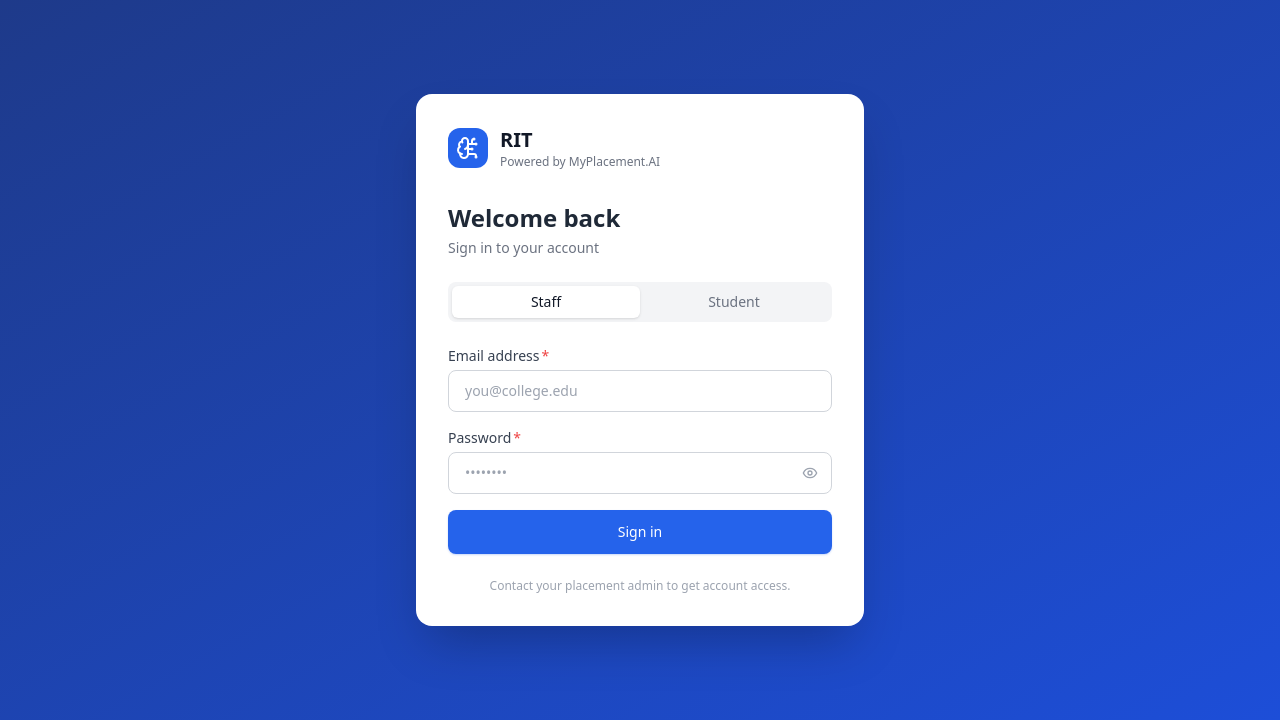
Test case: validation › asks for the roll number in student mode
Step 1. Click the button "student" → (734, 302), box left=640, top=286, right=828, bottom=318
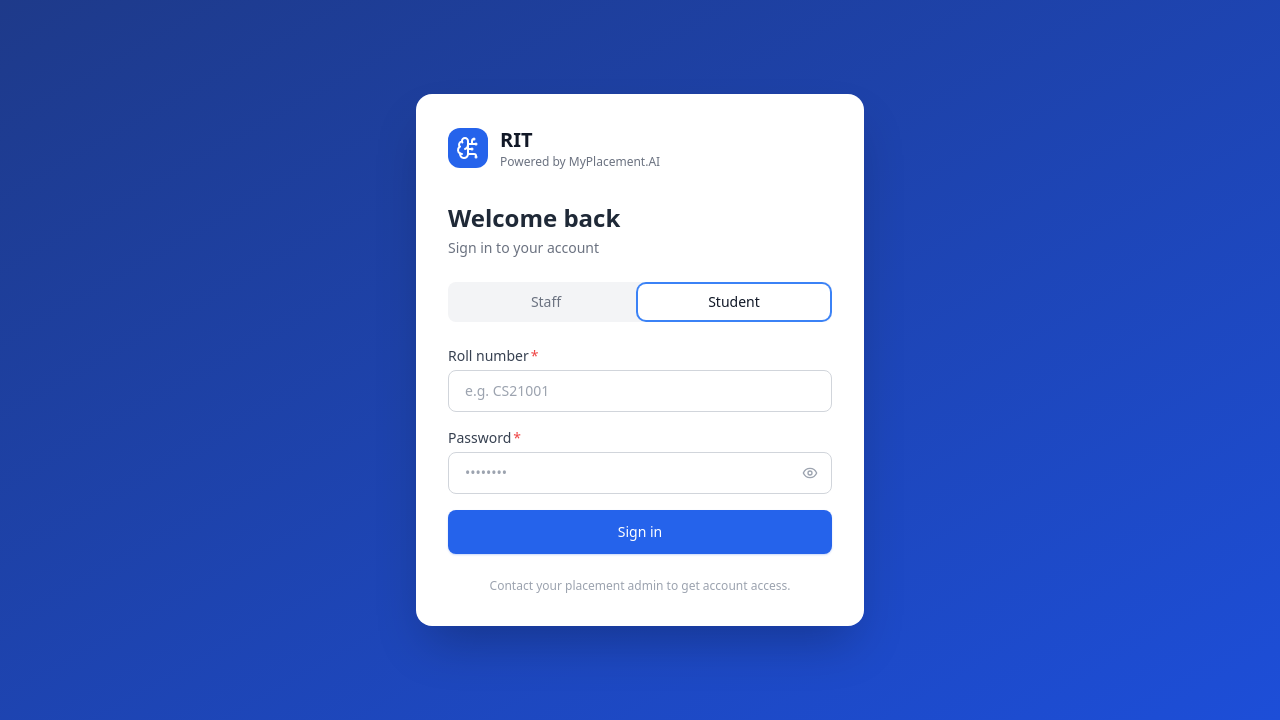
Step 2. Click the button "Sign in" → (640, 532), box left=448, top=510, right=832, bottom=554
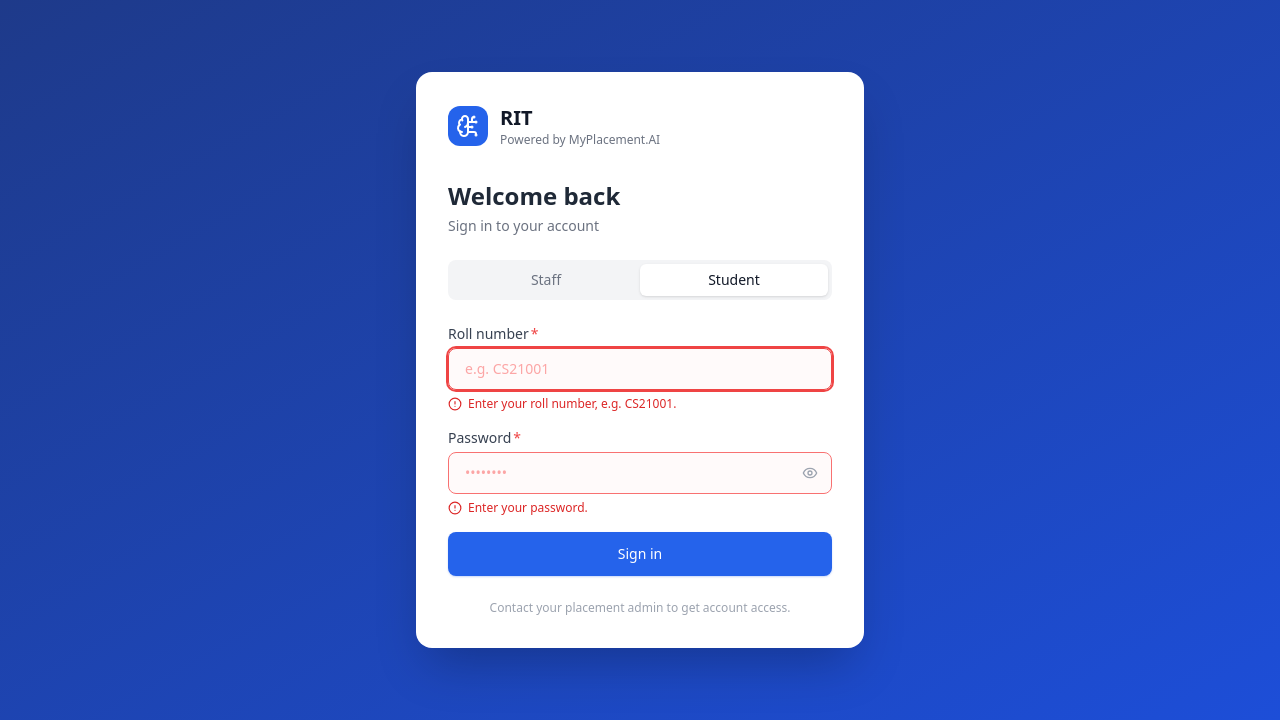
Expected: the text "Enter your roll number, e.g. CS21001." is shown, left=468, top=396, right=676, bottom=412
